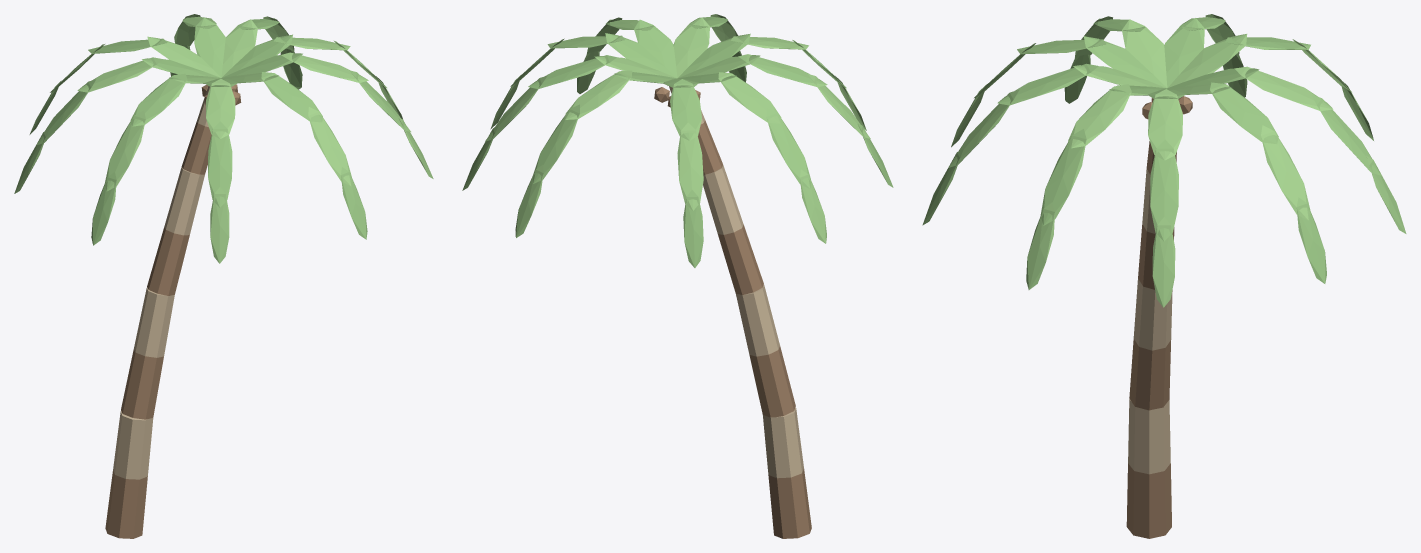
File: Tree_Palm.fbx
3 renders of one model, left to right at view 1: azimuth 30°, elevation 25°; view 2: azimuth 150°, elevation 25°; view 3: azimuth 270°, elevation 25°, orthographic. The views are drawn at different scales.
Visible parts, largest first — view 1: Tree_Palm_Mesh; view 2: Tree_Palm_Mesh; view 3: Tree_Palm_Mesh.
Boxes of the visible parts, bbox=[...] form: Tree_Palm_Mesh: bbox=[14, 14, 433, 538]; Tree_Palm_Mesh: bbox=[462, 14, 893, 538]; Tree_Palm_Mesh: bbox=[922, 14, 1406, 538].
Size of the model in its own units: 8.23 by 9.84 by 8.1.
